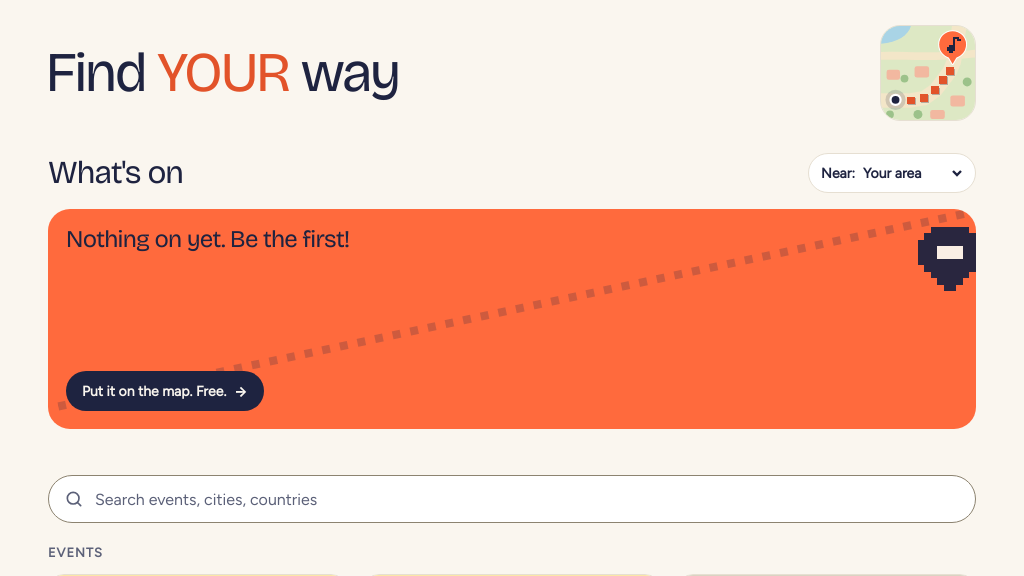
Scenario: home search › shows the empty state, and its clear action restores the full list in order and refocuses the field
Type "<b>xqzv</b>" into the search field at (512, 499), box [48,475,976,523]
(page scrolled)
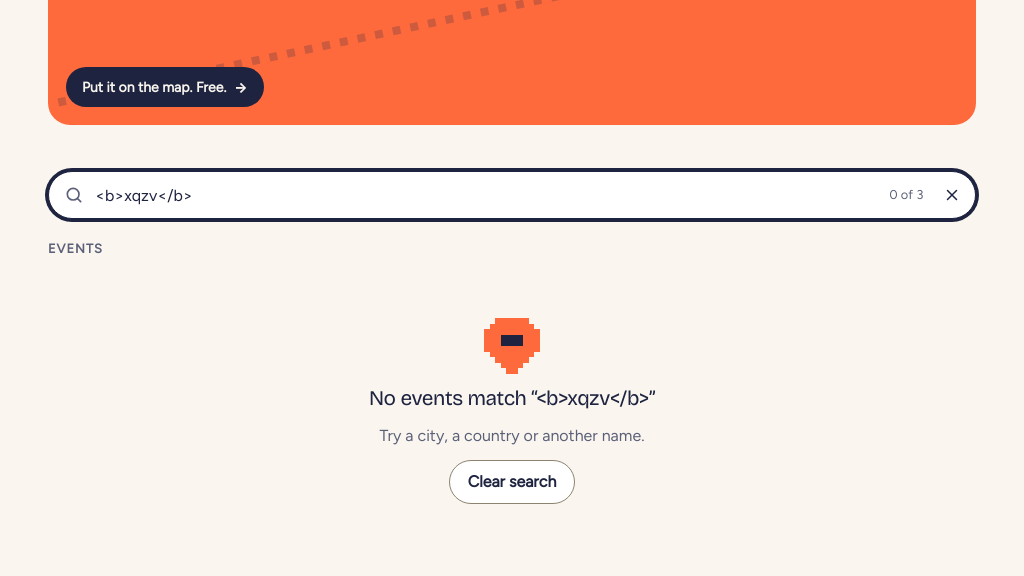
Now the heading "No events match “<b>xqzv</b>”" is shown, box [369,386,655,412]
Click the button "Clear search" at (512, 482), box [449,460,575,504]
(page scrolled)
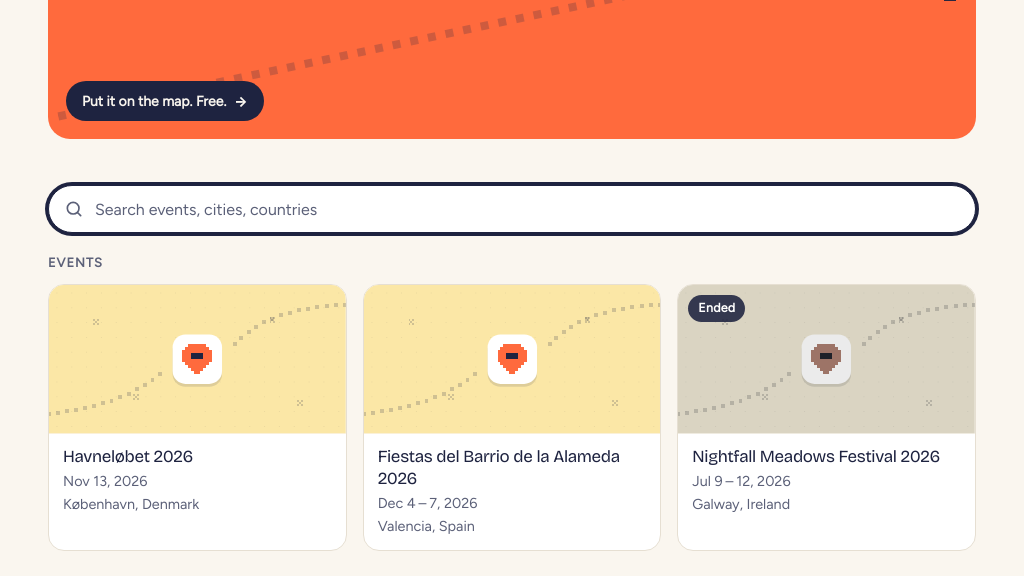
Now the search field is empty, box [48,185,976,233]
